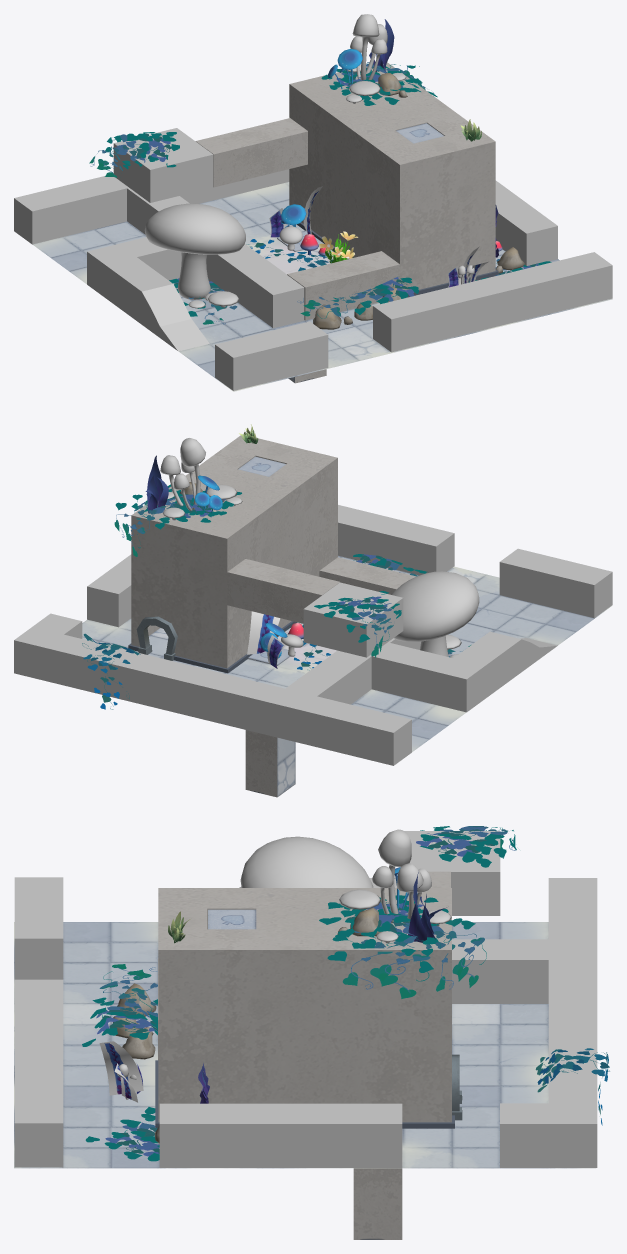
File: Map_04.FBX
The picture shows the model from 3 angles, top to bottom: view 1: azimuth 30°, elevation 25°; view 2: azimuth 150°, elevation 25°; view 3: azimuth 270°, elevation 25°; orthographic projection. The views are drawn at different scales.
Parts seen in each view (by area): view 1: Plane_04, Box_01, Plane_00, Cli_leaf, Shiitake_02, Interactive_01, Interactive_03, Plane_02, back032, Stone003, Interactive_04; view 2: Plane_04, Box_01, Plane_00, Cli_leaf, Shiitake_02, Interactive_01, Interactive_02, Plane_02, Interactive_03, door, Plant_002, back032 (+1 smaller); view 3: Box_01, Plane_04, Plane_00, Plane_02, Cli_leaf, Shiitake_02, Interactive_02, back032, Plant_004, Interactive_04, back034, Shiitake_007 (+3 smaller).
Boxes of the visible parts, <box> form: Plane_04: <box>14,128,612,390</box>; Box_01: <box>289,62,498,297</box>; Plane_00: <box>32,182,612,391</box>; Cli_leaf: <box>89,62,551,324</box>; Shiitake_02: <box>144,203,245,299</box>; Interactive_01: <box>195,118,307,187</box>; Interactive_03: <box>287,251,399,320</box>; Plane_02: <box>495,180,557,265</box>; back032: <box>352,14,379,80</box>; Stone003: <box>313,304,352,329</box>; Interactive_04: <box>396,123,443,143</box>; Plane_04: <box>14,505,612,765</box>; Box_01: <box>128,435,337,673</box>; Plane_00: <box>82,555,612,751</box>; Cli_leaf: <box>82,484,470,709</box>; Shiitake_02: <box>391,571,479,656</box>; Interactive_01: <box>227,559,339,623</box>; Interactive_02: <box>245,648,295,797</box>; Plane_02: <box>87,554,131,627</box>; Interactive_03: <box>319,557,416,594</box>; door: <box>136,616,177,660</box>; Plant_002: <box>247,611,280,654</box>; back032: <box>180,438,205,509</box>; Box_01: <box>155,888,454,1128</box>; Plane_04: <box>14,831,597,1167</box>; Plane_00: <box>14,922,595,1168</box>; Plane_02: <box>159,1103,402,1167</box>; Cli_leaf: <box>82,826,609,1161</box>; Shiitake_02: <box>240,836,373,887</box>; Interactive_02: <box>353,1168,402,1239</box>; back032: <box>378,829,411,920</box>; Plant_004: <box>99,1041,143,1095</box>; Interactive_04: <box>208,909,256,929</box>; back034: <box>397,863,423,922</box>; Shiitake_007: <box>338,889,380,911</box>.
Size of the model in its own units: 4113 by 4074 by 3348.
